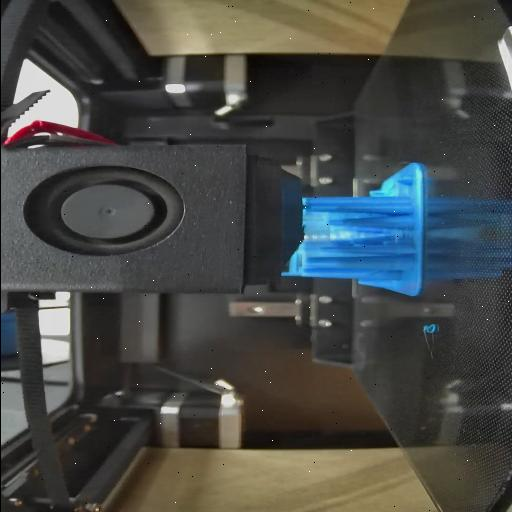stringing: (300, 212, 328, 266), (386, 228, 412, 244)
